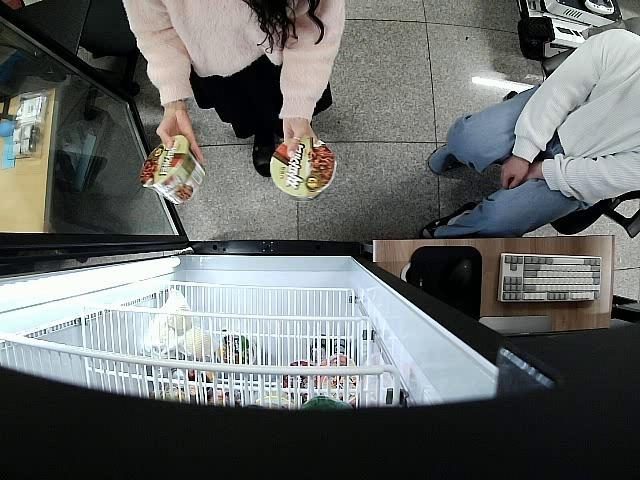03_chapagetti_L: (139, 135, 204, 206), (272, 139, 338, 200)
